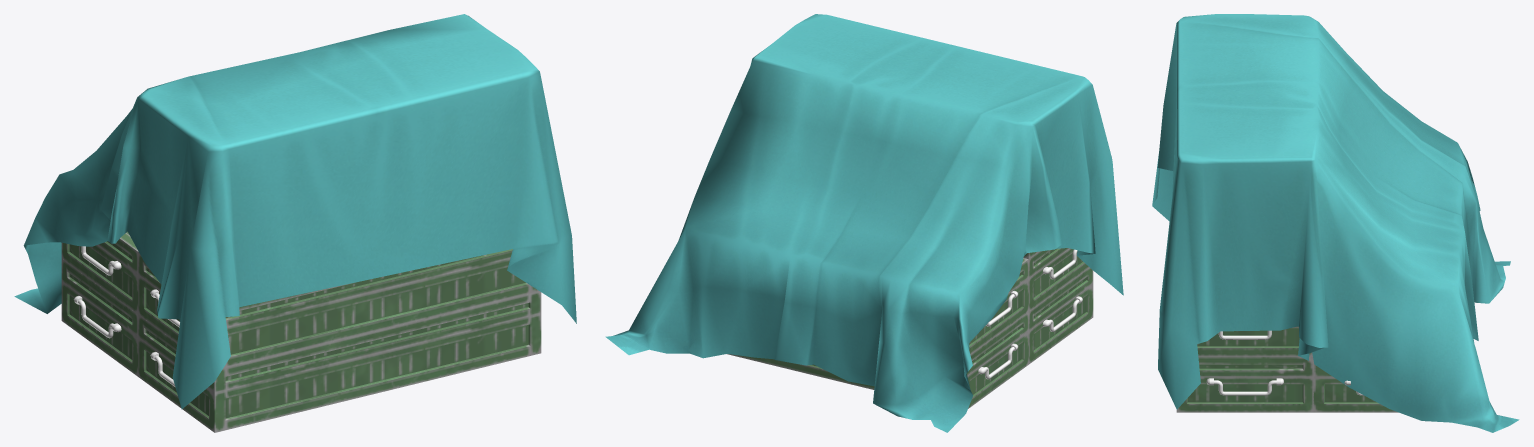
Rendered from Pfb_Box_GRP__11.fbx.
3 renders of one model, left to right at view 1: azimuth 30°, elevation 25°; view 2: azimuth 150°, elevation 25°; view 3: azimuth 270°, elevation 25°, orthographic. The views are drawn at different scales.
Parts seen in each view (by area): view 1: MAT_Canvas_02_Blue_Smooth, Mat_Lootbox_01; view 2: MAT_Canvas_02_Blue_Smooth, Mat_Lootbox_01; view 3: MAT_Canvas_02_Blue_Smooth, Mat_Lootbox_01.
Part boxes in pixels (bbox=[...]): MAT_Canvas_02_Blue_Smooth: bbox=[14, 14, 576, 409]; Mat_Lootbox_01: bbox=[61, 231, 541, 432]; MAT_Canvas_02_Blue_Smooth: bbox=[605, 14, 1123, 432]; Mat_Lootbox_01: bbox=[727, 248, 1093, 408]; MAT_Canvas_02_Blue_Smooth: bbox=[1152, 14, 1519, 432]; Mat_Lootbox_01: bbox=[1176, 326, 1398, 412].
Bounding box in the file's own units: 2.39 × 1.52 × 1.98.
2 materials, 2 textured.
